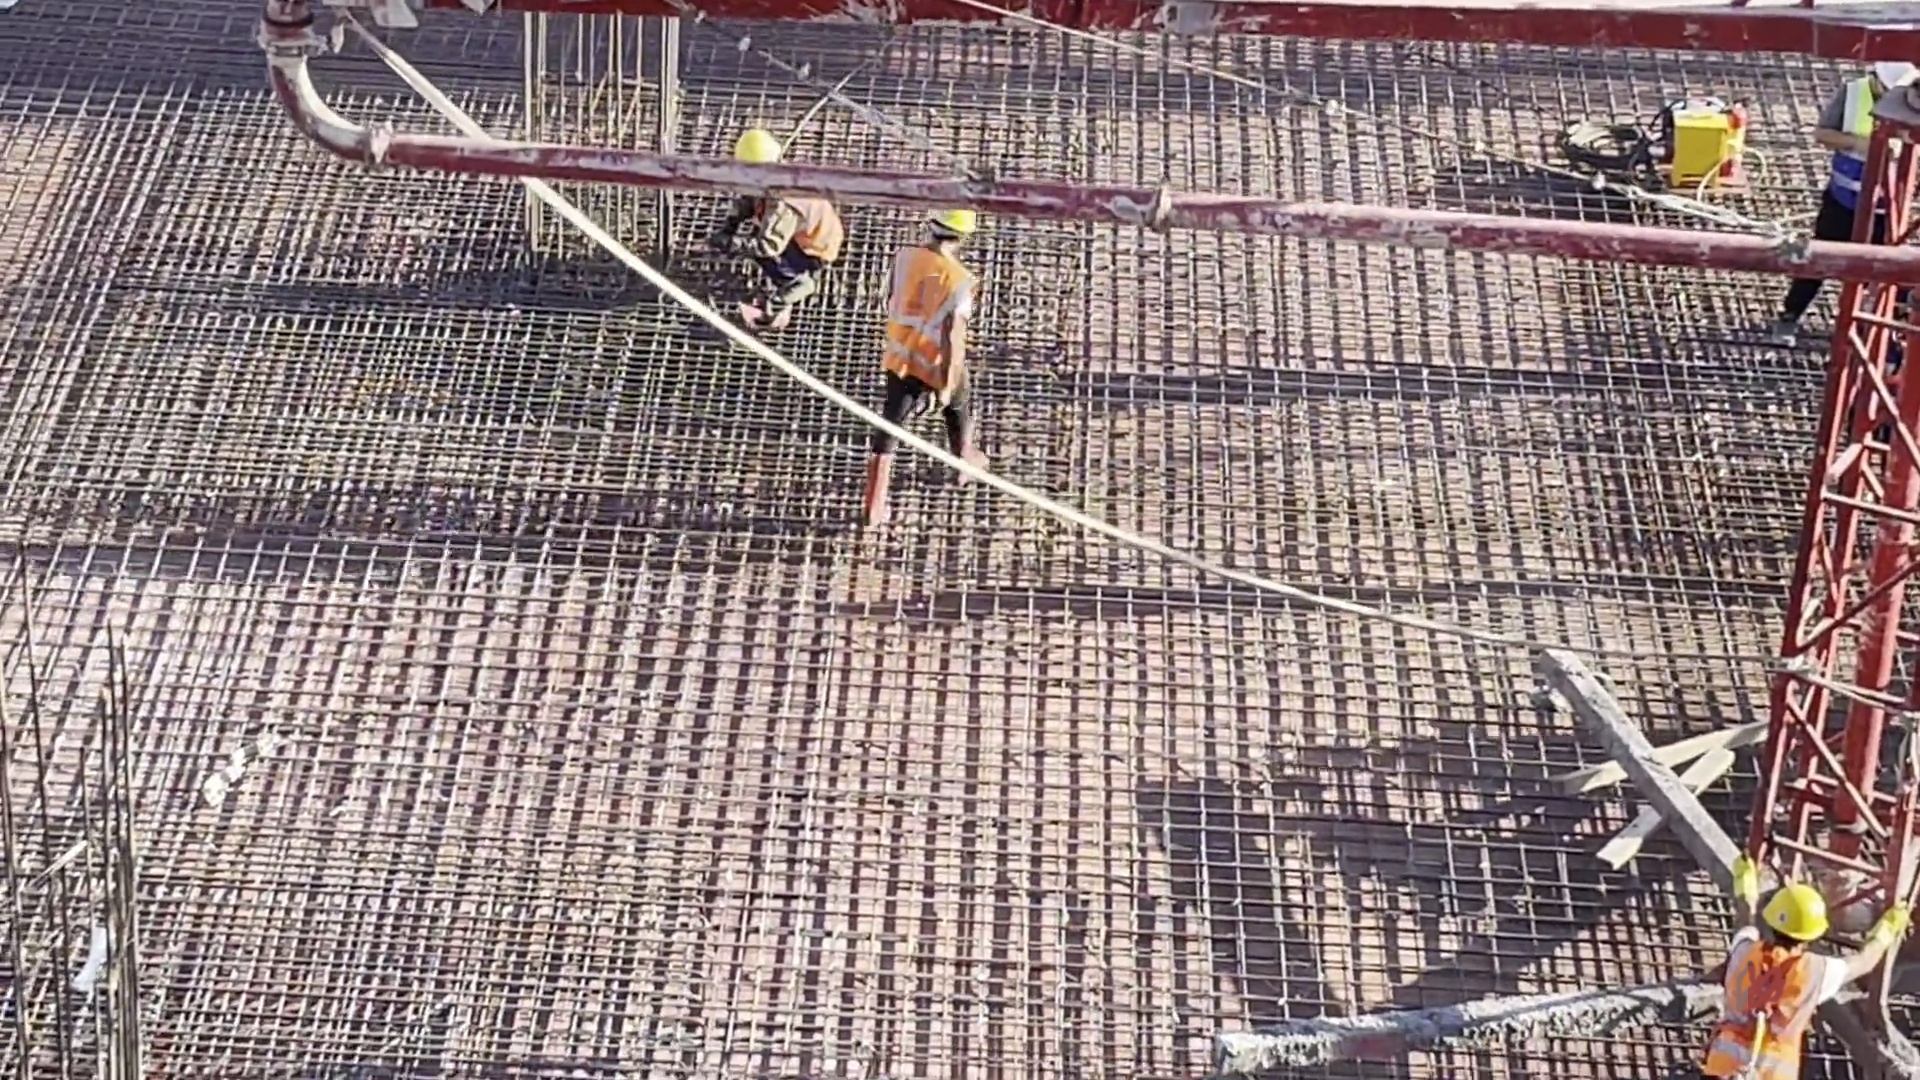helmet: (1759, 885, 1820, 939), (727, 129, 788, 165), (1869, 64, 1912, 96), (927, 215, 984, 236)
person: (1697, 842, 1916, 1080), (858, 204, 1000, 530), (1777, 57, 1912, 331), (717, 123, 845, 337)
vest: (881, 247, 968, 385), (1714, 953, 1803, 1078), (1823, 84, 1889, 215), (756, 195, 836, 265)
